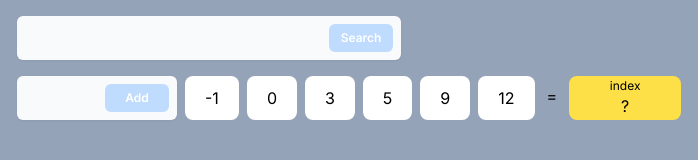
Test case: HomePage › Search number › should find the number and show your index
In the number field with test id "search-input": (209, 38) [17, 16, 401, 60], type "5"
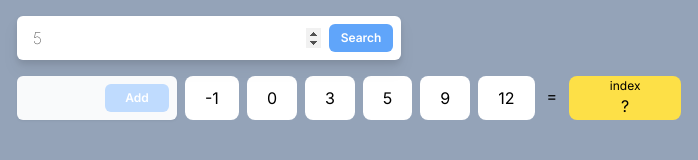
Click the button with test id "search-button": (361, 38) [329, 24, 393, 52]
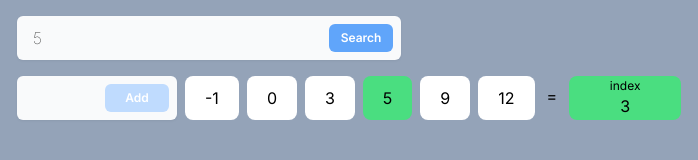
Result: the text with test id "result-value" reads "3" at [620, 96, 630, 116]
